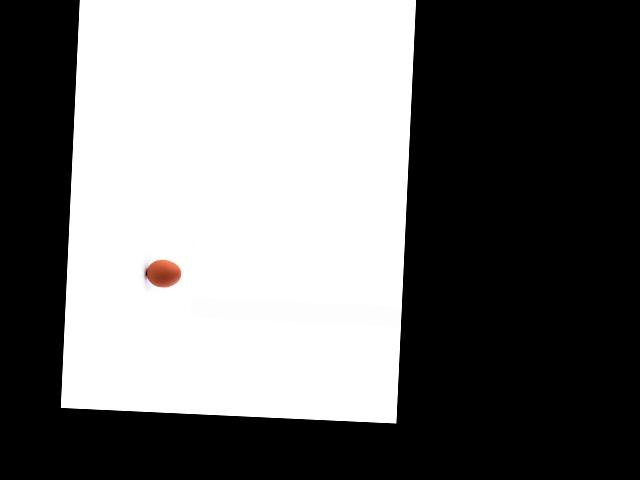egg: (145, 259, 181, 288)
